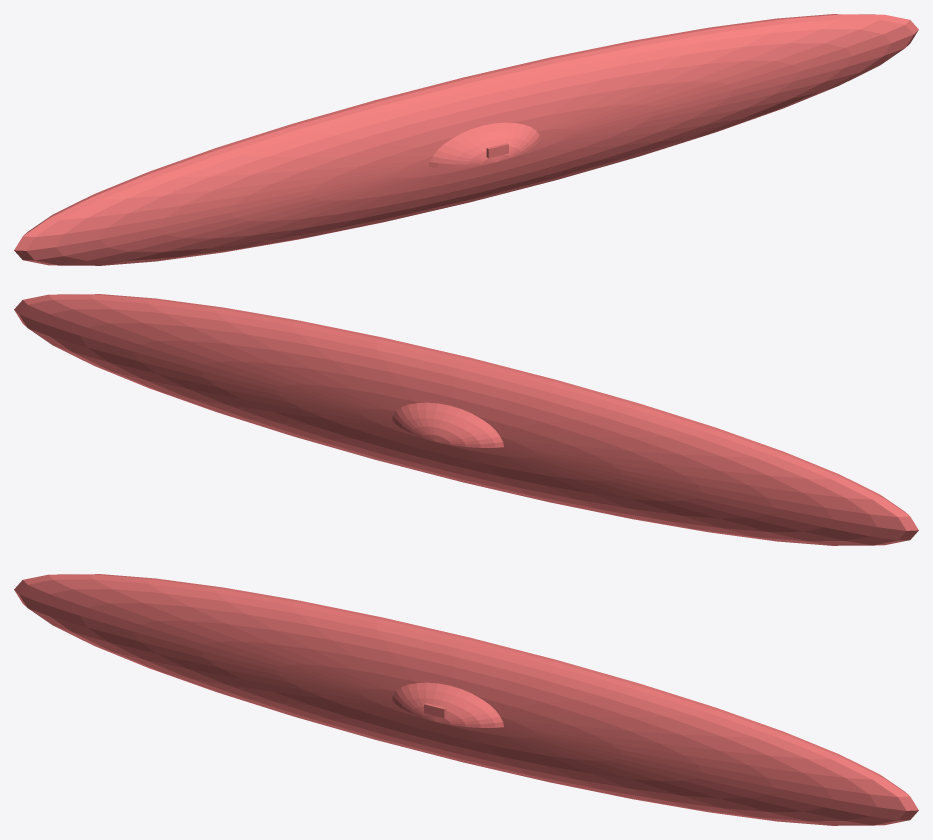
3 views of the same model, one above another, from view 1: azimuth 30°, elevation 25°; view 2: azimuth 150°, elevation 25°; view 3: azimuth 330°, elevation 25° (orthographic).
Parts seen in each view (by area): view 1: PillBottomHalf; view 2: PillBottomHalf; view 3: PillBottomHalf.
Boxes of the visible parts, x1,y1,x2,y2 form: PillBottomHalf: [14, 14, 918, 265]; PillBottomHalf: [14, 294, 918, 545]; PillBottomHalf: [14, 574, 918, 825].
Bounding box in the file's own units: 2333 × 300 × 279.
